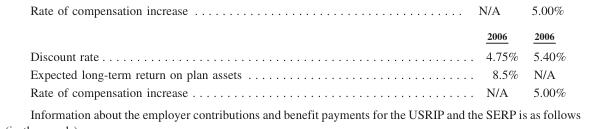table: (29, 29, 565, 98)
table column: (29, 29, 363, 98), (363, 29, 525, 98), (525, 29, 565, 98)
table column header: (29, 29, 565, 44)
table row: (29, 44, 565, 64), (29, 64, 565, 82), (29, 82, 565, 98), (29, 29, 565, 44)
